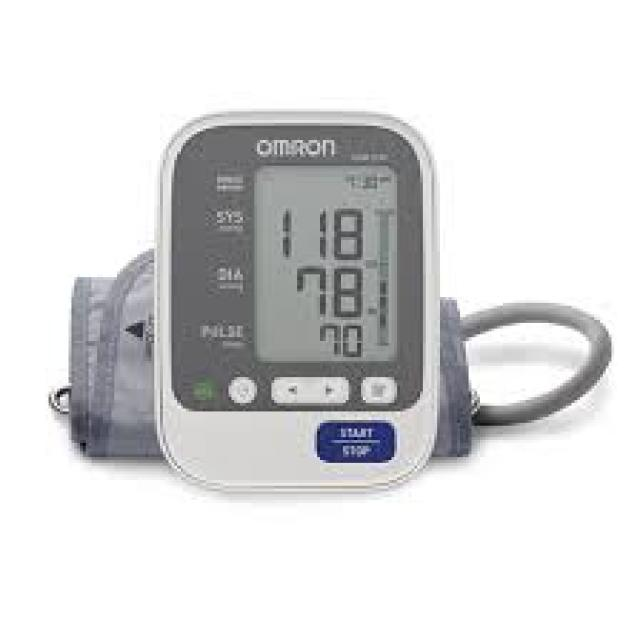dia: (287, 259, 372, 320)
pul: (309, 316, 367, 360)
ssd: (253, 163, 405, 360)
sys: (276, 205, 368, 263)
